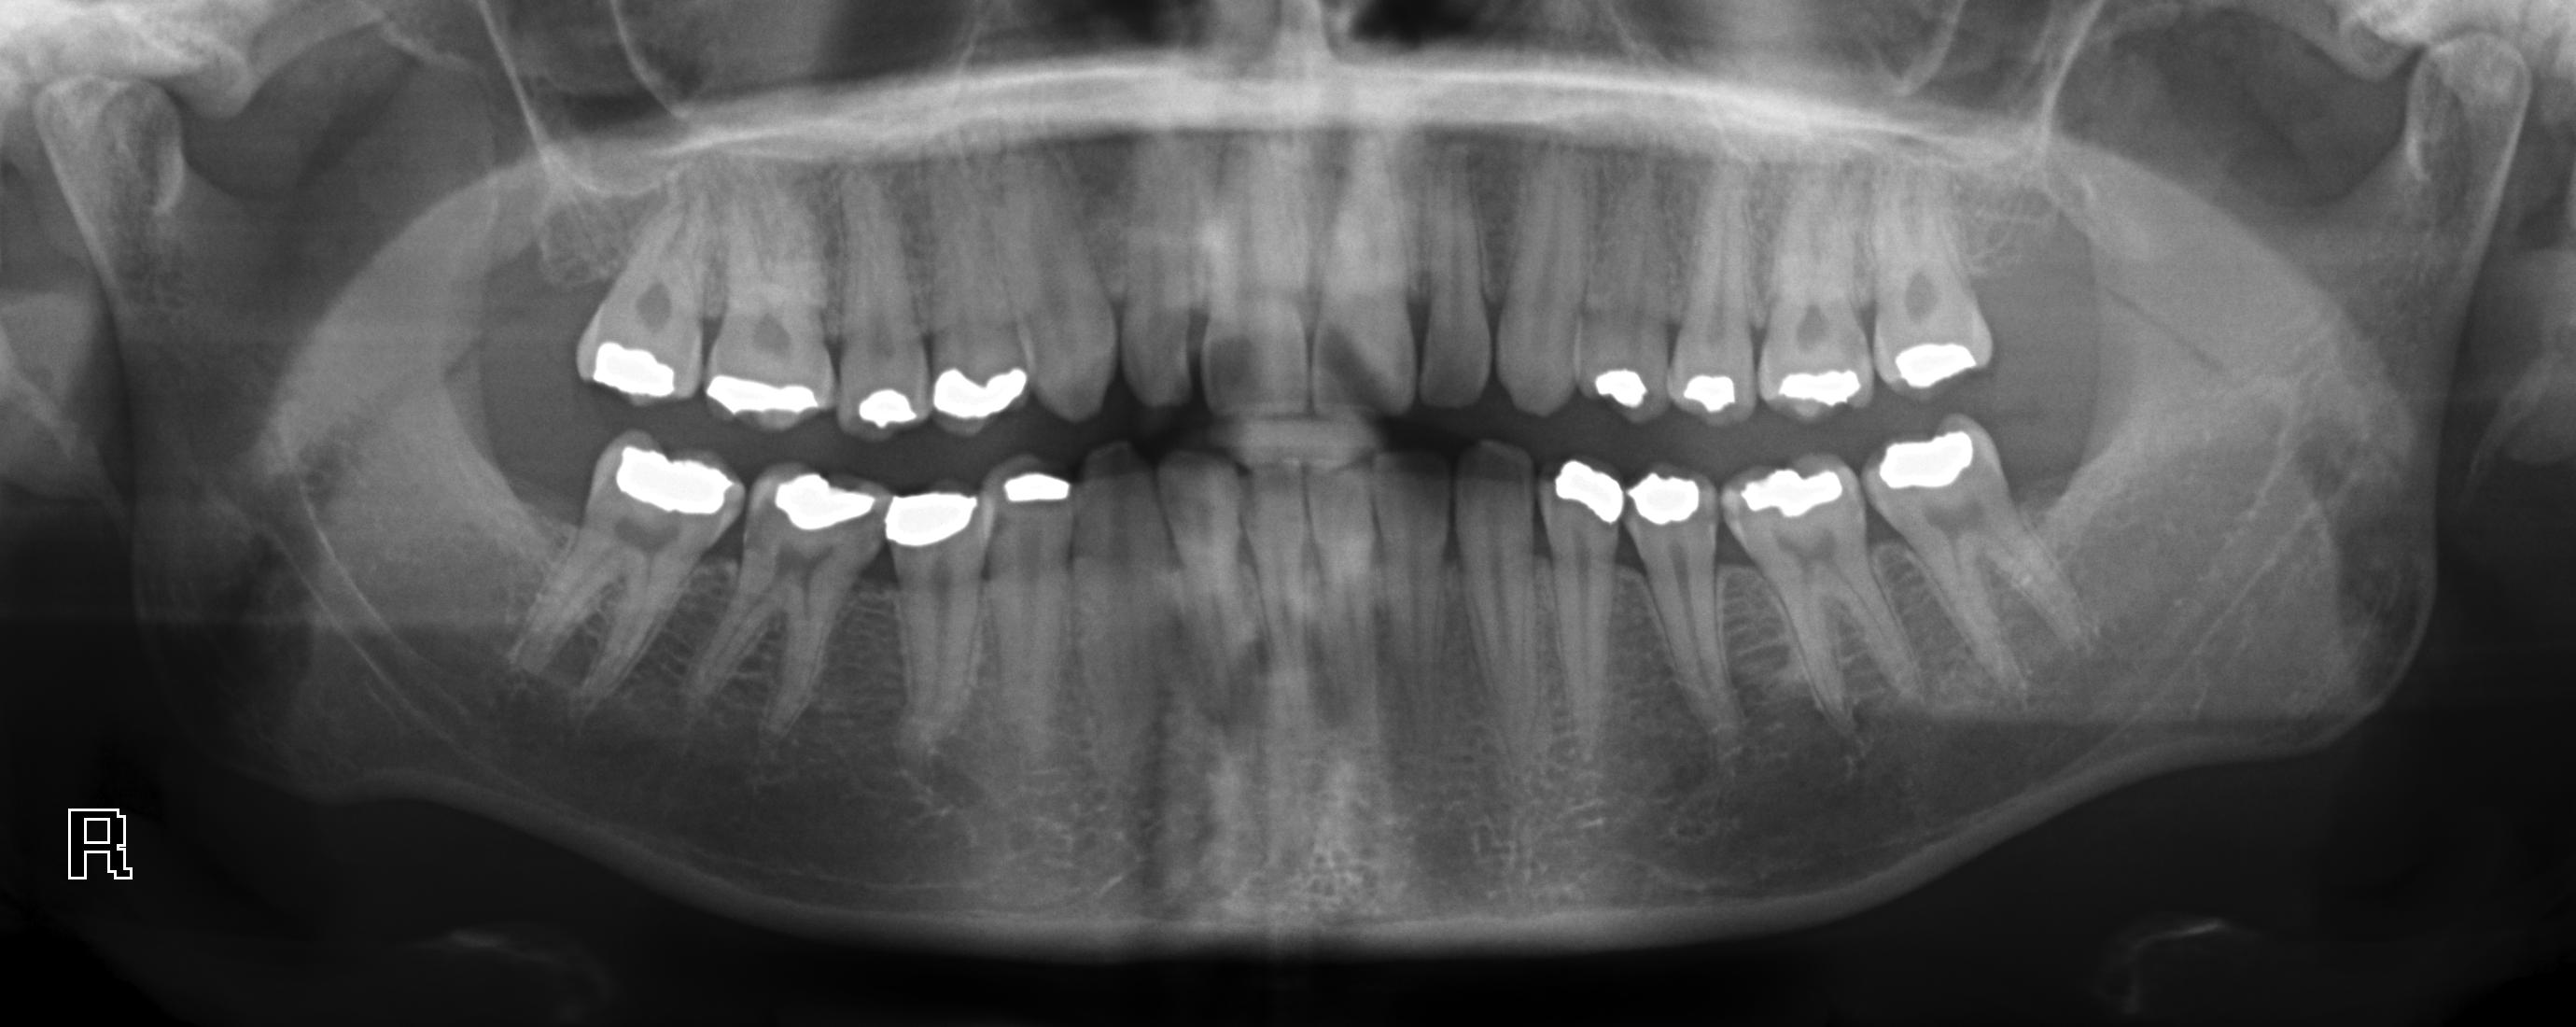Çürük: (608, 429, 734, 523), (925, 347, 1028, 439), (703, 360, 823, 435), (583, 329, 682, 409), (1876, 419, 1975, 498), (877, 478, 973, 549), (1618, 457, 1718, 521), (1741, 457, 1855, 513), (1891, 325, 1985, 393), (780, 468, 877, 531), (1539, 458, 1625, 524), (1771, 362, 1868, 409), (851, 376, 915, 435), (992, 470, 1088, 508), (1674, 373, 1743, 422), (1594, 362, 1656, 409)
Çürük Bölgesi: (741, 478, 784, 554), (977, 504, 1019, 537), (1715, 491, 1741, 534)
